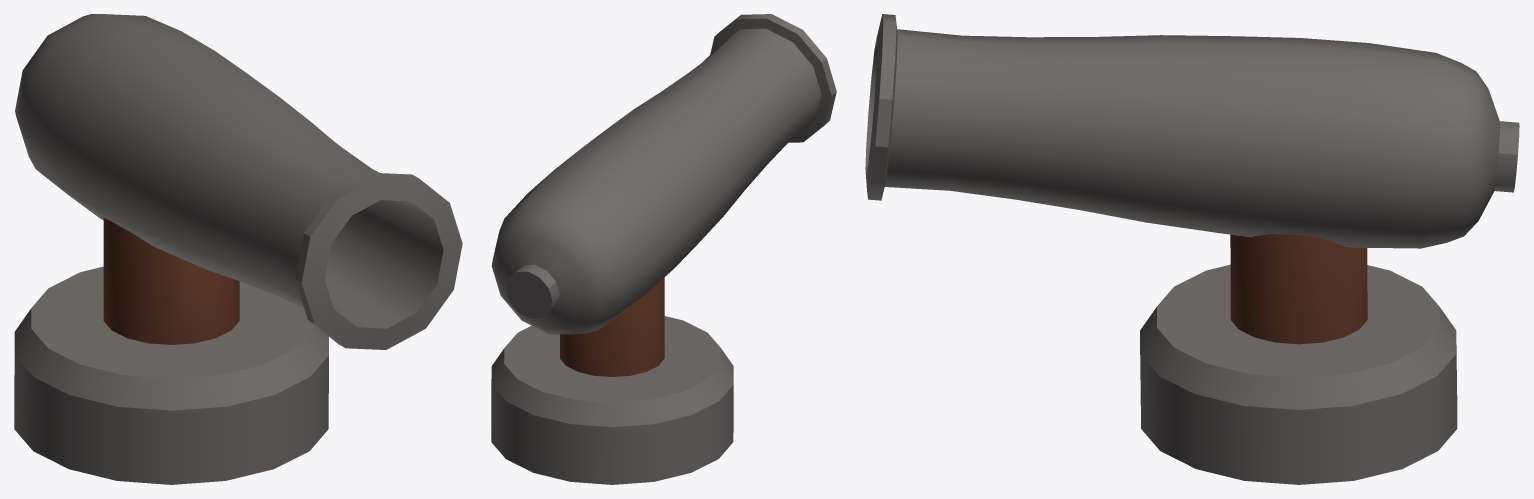
Rendered from cannonFat.FBX.
3 views of the same model, side by side, from view 1: azimuth 30°, elevation 25°; view 2: azimuth 150°, elevation 25°; view 3: azimuth 270°, elevation 25° (orthographic). The views are drawn at different scales.
Parts seen in each view (by area): view 1: Cannon; view 2: Cannon; view 3: Cannon.
Part boxes in pixels (bbox=[...]): Cannon: bbox=[14, 14, 462, 484]; Cannon: bbox=[491, 14, 836, 484]; Cannon: bbox=[865, 14, 1519, 484].
Size of the model in its own units: 2.76 by 3.74 by 5.62.
Materials: 2 (2 with a texture image).
